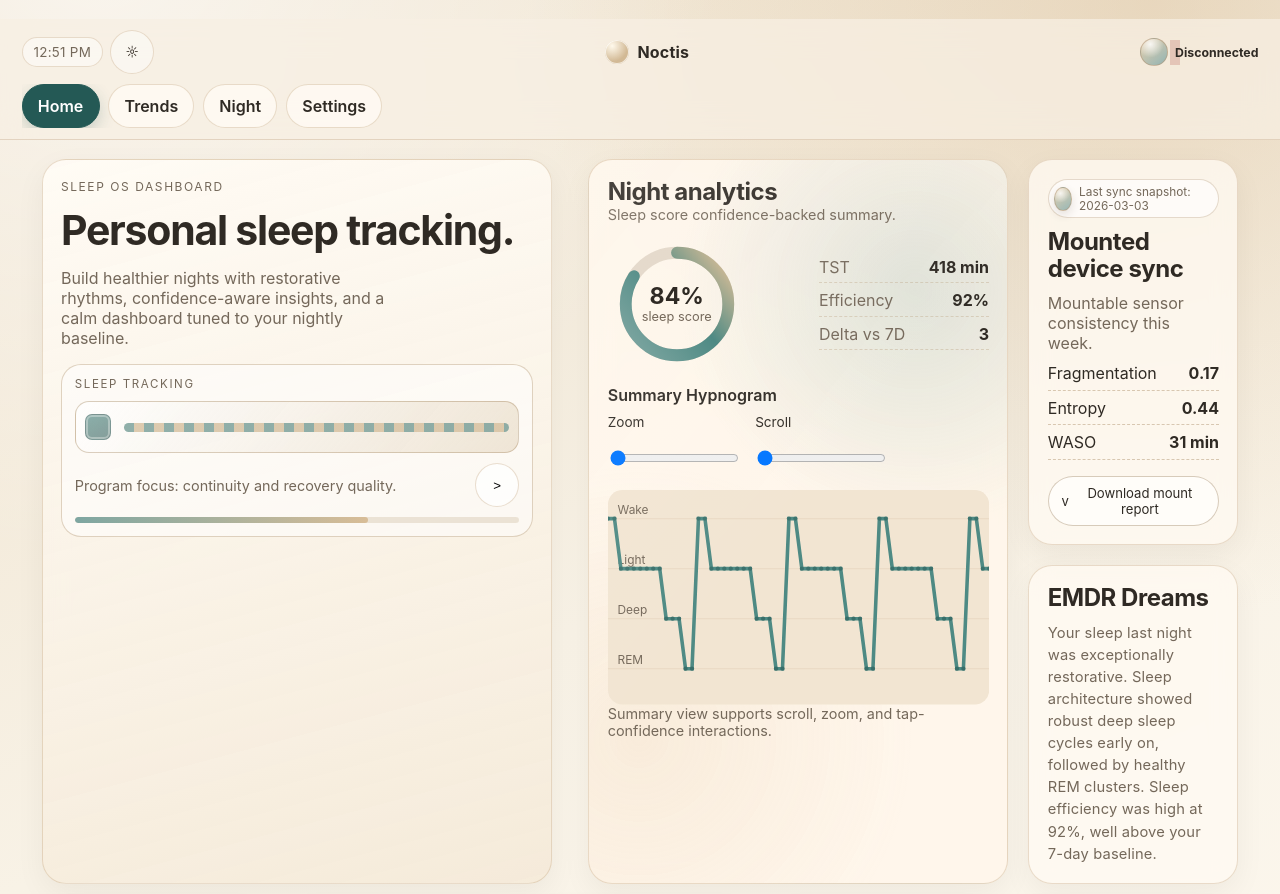
Test: home page buttons › downloads the mount report when clicked
The width and height of the screenshot is (1280, 894).
Step 1. Click the button "v Download mount report" → (1133, 501), box x1=1048 y1=476 x2=1219 y2=526
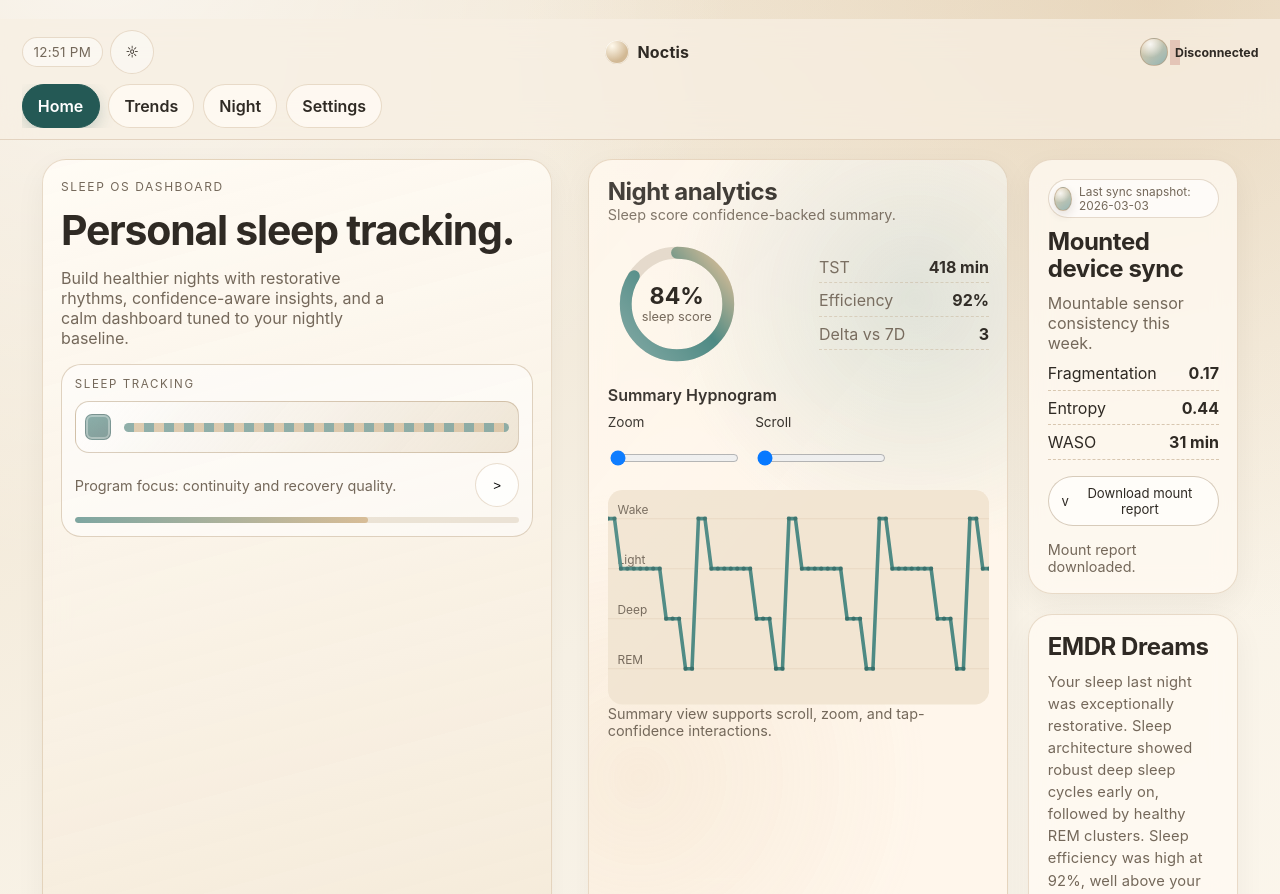
Result: the text "Mount report downloaded." is shown at x1=1048 y1=541 x2=1137 y2=575
